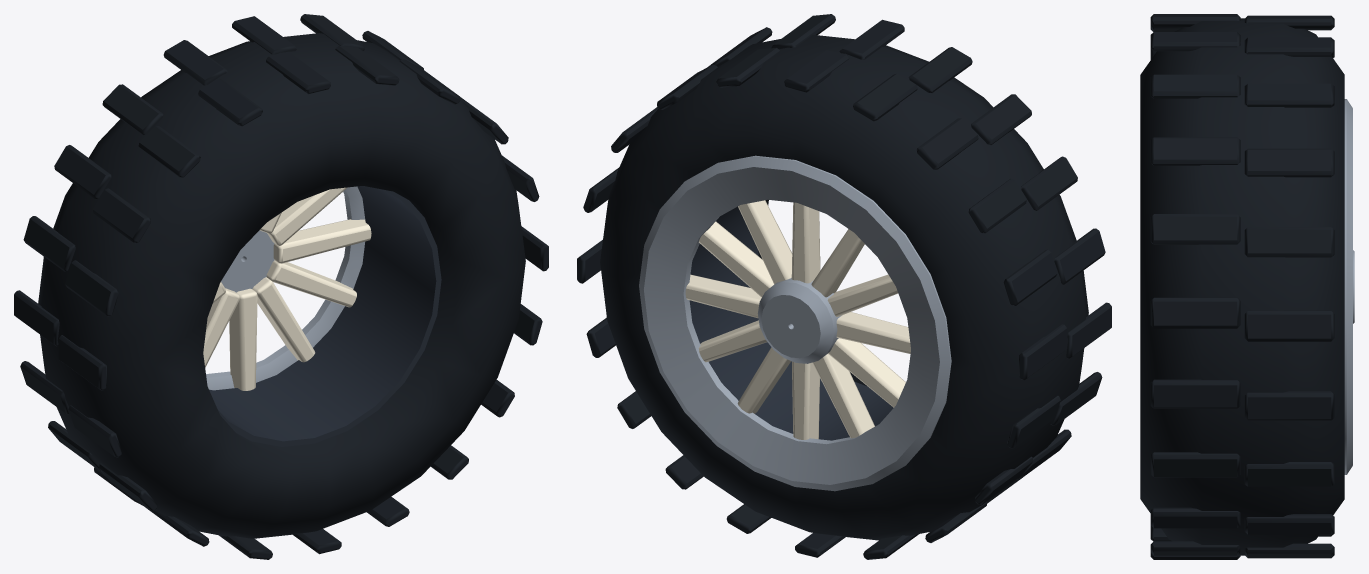
3 views of the same model, side by side, from view 1: azimuth 30°, elevation 25°; view 2: azimuth 150°, elevation 25°; view 3: azimuth 270°, elevation 25° (orthographic). The views are drawn at different scales.
Visible parts, largest first — view 1: W09_Tire, W09_Rim_barrel, W09_Rim_outer_lip, W09_Rally_spoke_9, W09_Rally_spoke_0, W09_Rally_spoke_10, W09_Rally_spoke_11, W09_Axle_cap, W09_Tread_17_-1, W09_Tread_18_-1, W09_Tread_17_1, W09_Tread_18_1 (+26 smaller); view 2: W09_Tire, W09_Rim_outer_lip, W09_Rim_barrel, W09_Axle_cap, W09_Rally_spoke_8, W09_Rally_spoke_2, W09_Rally_spoke_1, W09_Rally_spoke_7, W09_Rally_spoke_3, W09_Rally_spoke_9, W09_Rally_spoke_6, W09_Rally_spoke_0 (+31 smaller); view 3: W09_Tire, W09_Rim_outer_lip, W09_Tread_4_-1, W09_Tread_4_1, W09_Tread_3_-1, W09_Tread_3_1, W09_Tread_5_-1, W09_Tread_2_1, W09_Tread_5_1, W09_Tread_2_-1, W09_Tread_6_-1, W09_Tread_1_1 (+11 smaller).
Boxes of the visible parts, bbox=[...] form: W09_Tire: bbox=[38, 33, 525, 538]; W09_Rim_barrel: bbox=[209, 186, 441, 446]; W09_Rim_outer_lip: bbox=[206, 186, 365, 390]; W09_Rally_spoke_9: bbox=[229, 288, 257, 390]; W09_Rally_spoke_0: bbox=[273, 219, 371, 263]; W09_Rally_spoke_10: bbox=[252, 277, 315, 362]; W09_Rally_spoke_11: bbox=[266, 260, 356, 307]; W09_Axle_cap: bbox=[221, 230, 274, 292]; W09_Tread_17_-1: bbox=[93, 188, 150, 243]; W09_Tread_18_-1: bbox=[138, 126, 200, 177]; W09_Tread_17_1: bbox=[54, 145, 111, 199]; W09_Tread_18_1: bbox=[102, 84, 163, 135]; W09_Tire: bbox=[600, 34, 1088, 540]; W09_Rim_outer_lip: bbox=[639, 155, 951, 491]; W09_Rim_barrel: bbox=[689, 206, 893, 440]; W09_Axle_cap: bbox=[757, 278, 841, 363]; W09_Rally_spoke_8: bbox=[812, 354, 874, 438]; W09_Rally_spoke_2: bbox=[738, 200, 792, 284]; W09_Rally_spoke_1: bbox=[699, 221, 773, 297]; W09_Rally_spoke_7: bbox=[828, 338, 905, 407]; W09_Rally_spoke_3: bbox=[791, 202, 820, 283]; W09_Rally_spoke_9: bbox=[791, 361, 819, 439]; W09_Rally_spoke_6: bbox=[836, 312, 910, 353]; W09_Rally_spoke_0: bbox=[685, 274, 761, 318]; W09_Tire: bbox=[1140, 18, 1344, 555]; W09_Rim_outer_lip: bbox=[1344, 99, 1352, 474]; W09_Tread_4_-1: bbox=[1150, 297, 1240, 328]; W09_Tread_4_1: bbox=[1244, 310, 1334, 341]; W09_Tread_3_-1: bbox=[1150, 214, 1240, 244]; W09_Tread_3_1: bbox=[1244, 227, 1334, 257]; W09_Tread_5_-1: bbox=[1150, 379, 1240, 408]; W09_Tread_2_1: bbox=[1244, 148, 1334, 177]; W09_Tread_5_1: bbox=[1244, 391, 1334, 420]; W09_Tread_2_-1: bbox=[1150, 137, 1240, 165]; W09_Tread_6_-1: bbox=[1150, 452, 1240, 477]; W09_Tread_1_1: bbox=[1244, 83, 1334, 107].
Size of the model in its own units: 3.34 by 3.34 by 1.31.
